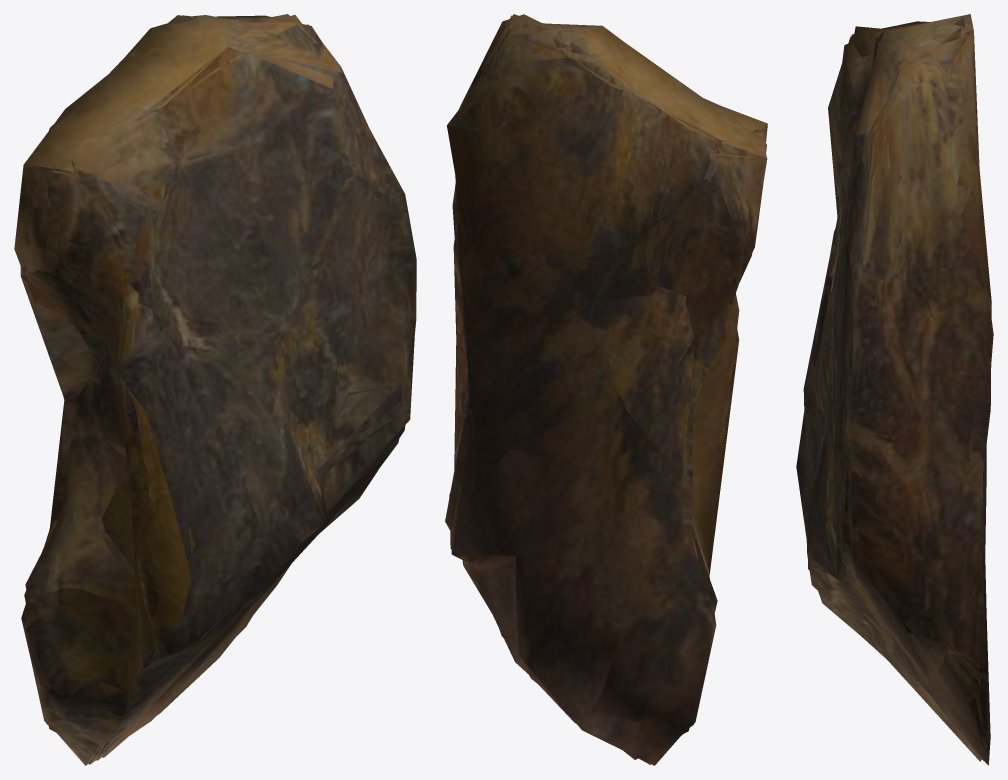
The model's file is rock_09.glb.
3 views of the same model, side by side, from view 1: azimuth 30°, elevation 25°; view 2: azimuth 150°, elevation 25°; view 3: azimuth 270°, elevation 25° (orthographic). The views are drawn at different scales.
Visible parts, largest first — view 1: rock_09_LOD0; view 2: rock_09_LOD0; view 3: rock_09_LOD0.
Boxes of the visible parts, x1,y1,x2,y2 form: rock_09_LOD0: [14, 14, 416, 765]; rock_09_LOD0: [445, 14, 767, 765]; rock_09_LOD0: [796, 14, 993, 765].
Size of the model in its own units: 2.42 by 4.71 by 1.07.
Materials: 1 (1 with a texture image).
